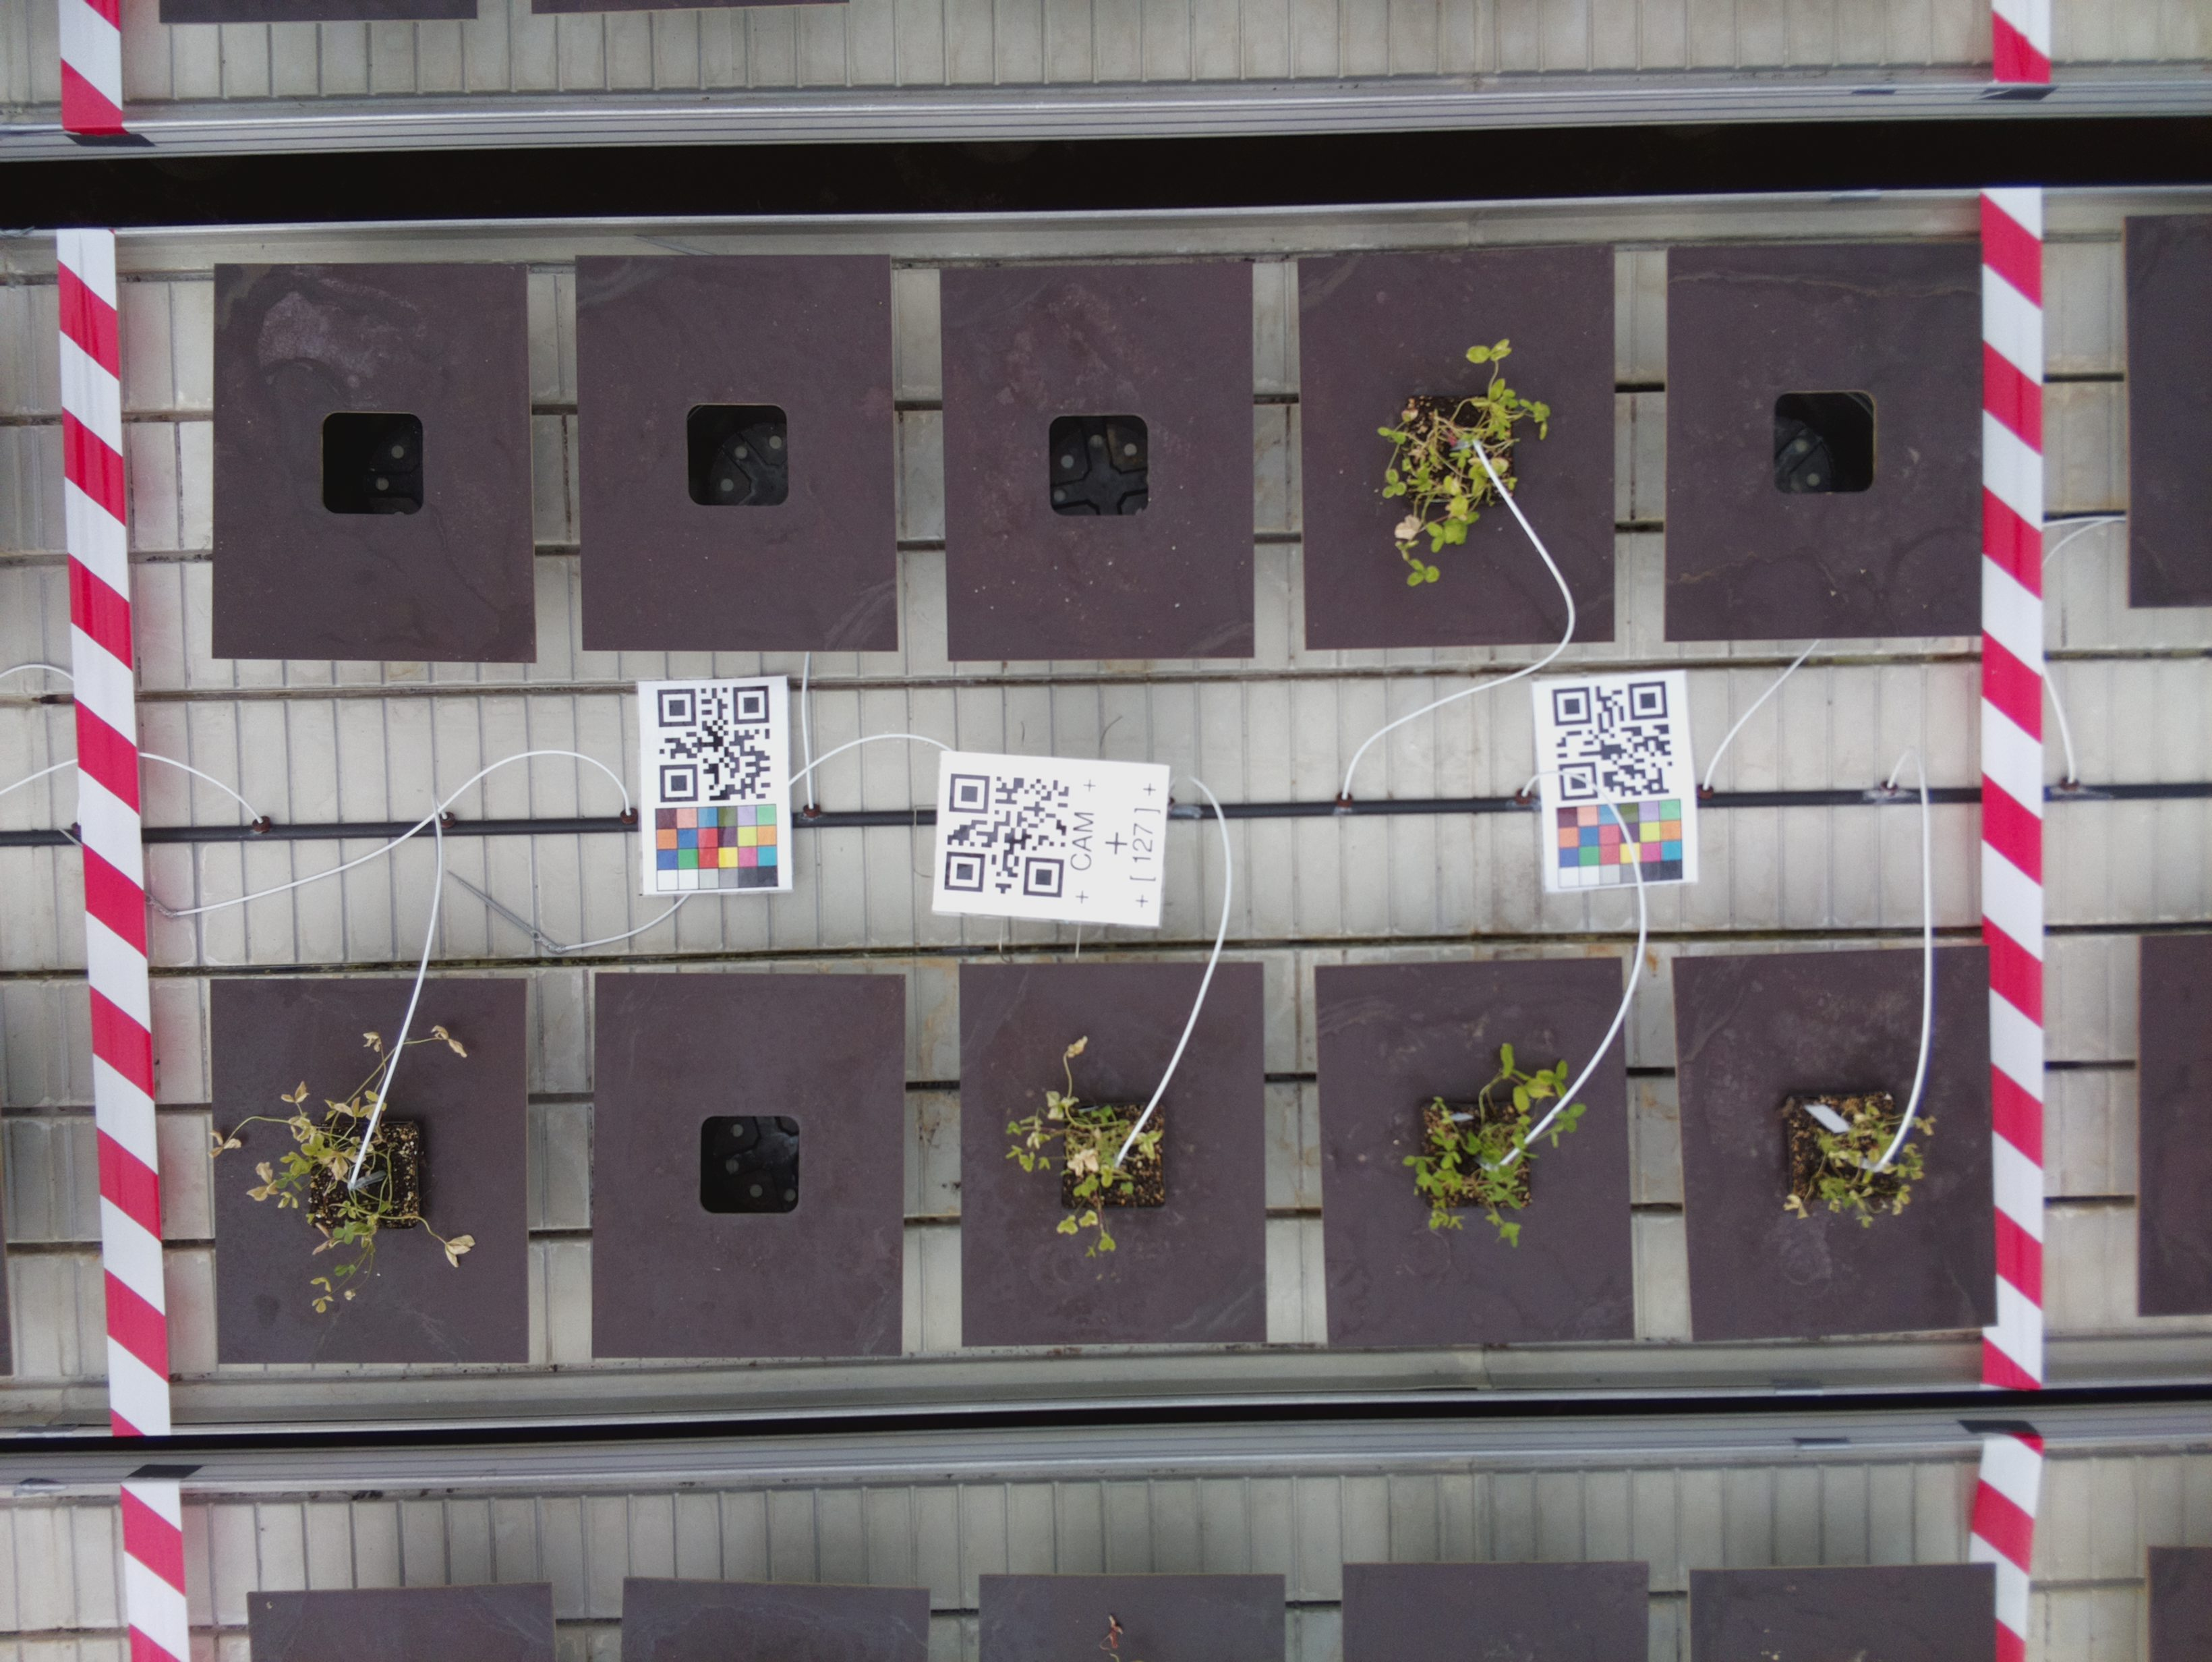POT: (578, 253, 899, 651), (215, 264, 531, 663), (1295, 257, 1618, 648), (1667, 246, 1985, 641), (943, 265, 1255, 662), (210, 978, 529, 1365), (1671, 955, 1997, 1332), (595, 974, 906, 1358), (1316, 965, 1631, 1343), (964, 965, 1266, 1343)
QRCODE: (939, 751, 1171, 925)
QRCOLOR: (1533, 679, 1700, 889), (639, 679, 796, 894)
